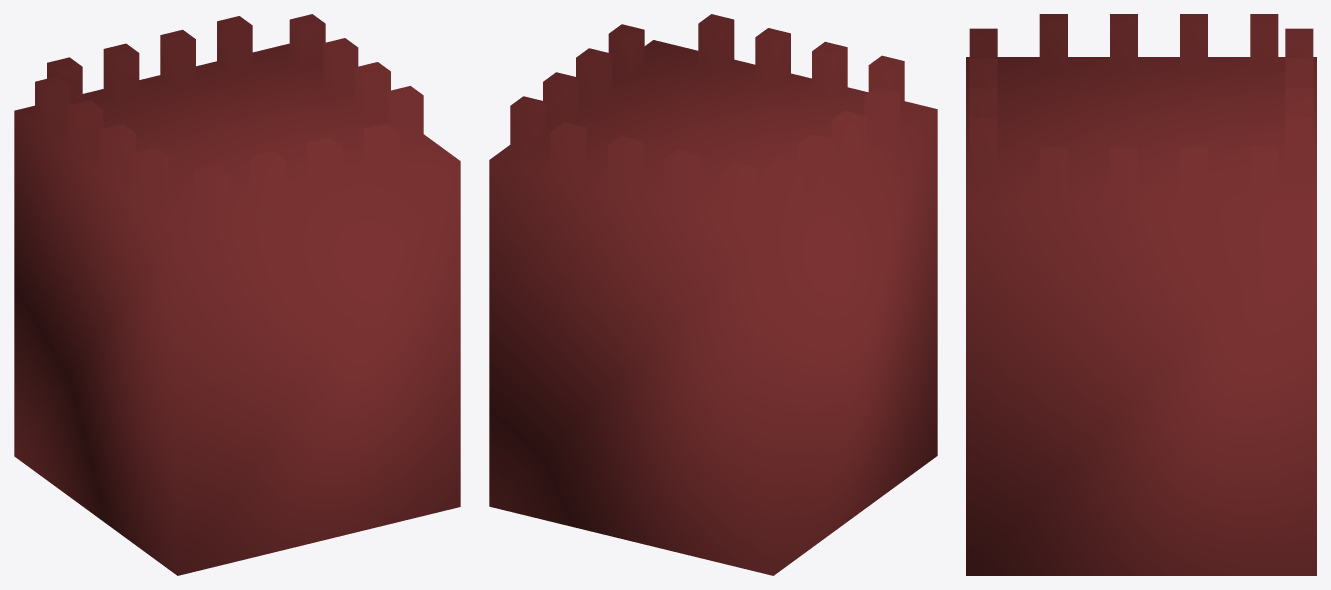
File: barracks.obj
3 renders of one model, left to right at view 1: azimuth 30°, elevation 25°; view 2: azimuth 150°, elevation 25°; view 3: azimuth 270°, elevation 25°, orthographic. The views are drawn at different scales.
Visible parts, largest first — view 1: building; view 2: building; view 3: building.
Part boxes in pixels (x1=…): building: x1=14, y1=14, x2=460, y2=575; building: x1=489, y1=14, x2=937, y2=575; building: x1=966, y1=14, x2=1316, y2=575.
Bounding box in the file's own units: 3 × 3.92 × 3.
